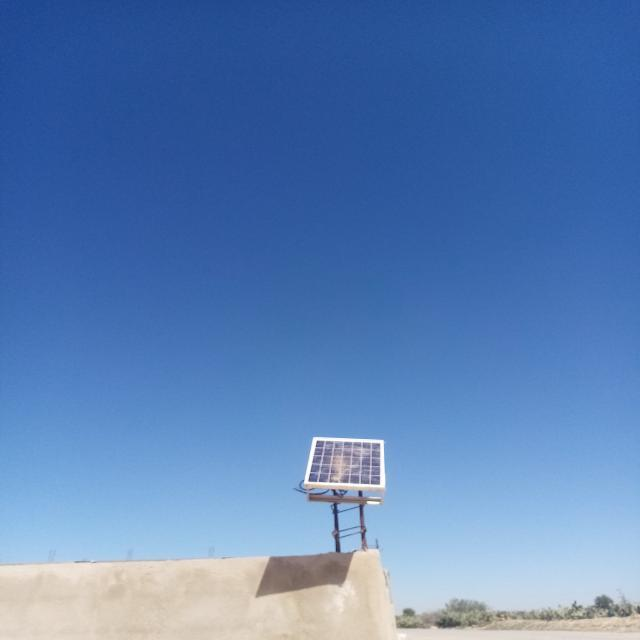faulty: (304, 437, 384, 488)
